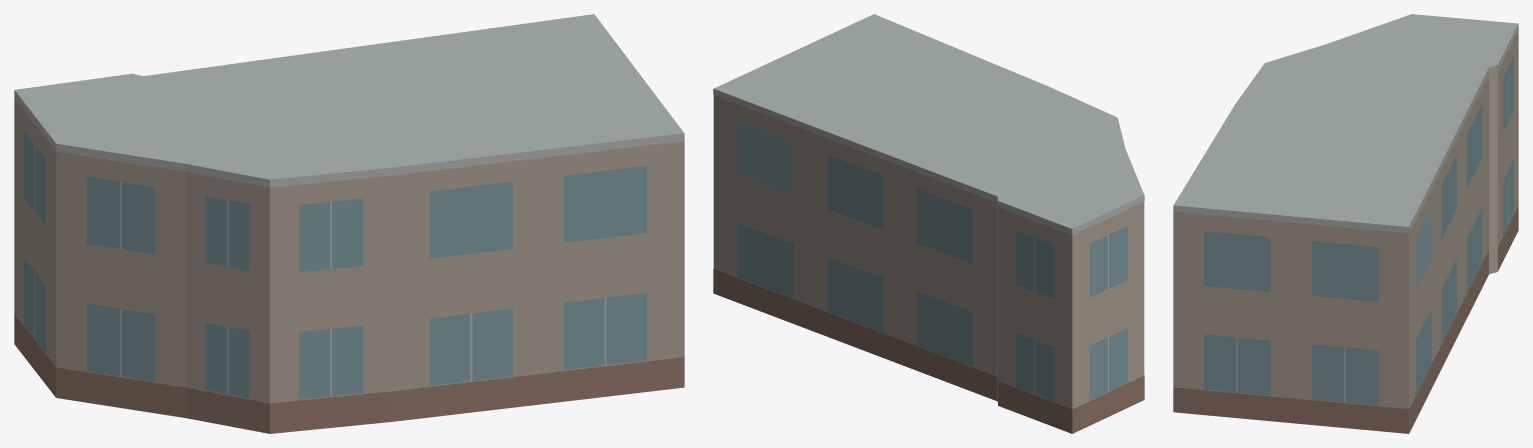
File: survey-upis-32533733.glb
3 views of the same model, side by side, from view 1: azimuth 30°, elevation 25°; view 2: azimuth 150°, elevation 25°; view 3: azimuth 270°, elevation 25° (orthographic). The views are drawn at different scales.
Parts seen in each view (by area): view 1: survey-upis-32533733.tmp; view 2: survey-upis-32533733.tmp; view 3: survey-upis-32533733.tmp.
Boxes of the visible parts, x1,y1,x2,y2 form: survey-upis-32533733.tmp: (14, 14, 684, 433); survey-upis-32533733.tmp: (713, 14, 1144, 433); survey-upis-32533733.tmp: (1173, 14, 1518, 433).
Bounding box in the file's own units: 17.35 × 7.85 × 11.88.
